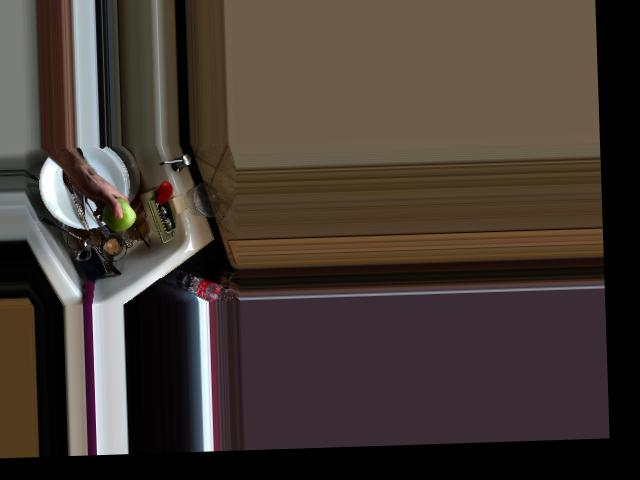apple: (98, 194, 136, 232)
